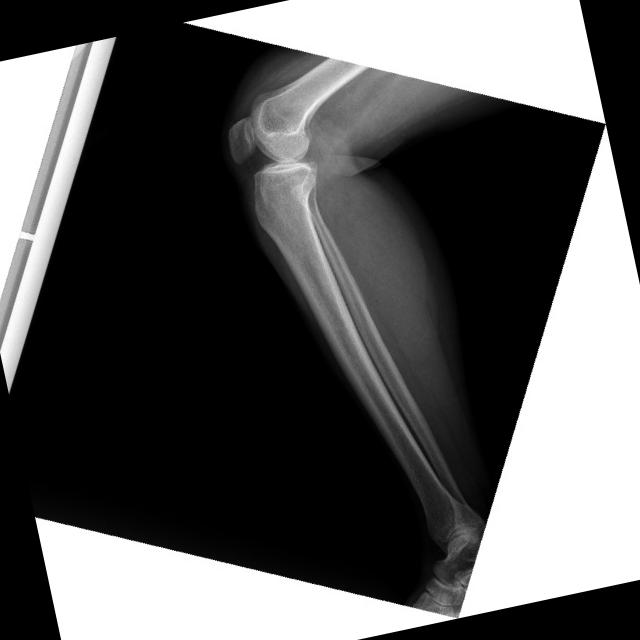Knee: (221, 95, 328, 213)
